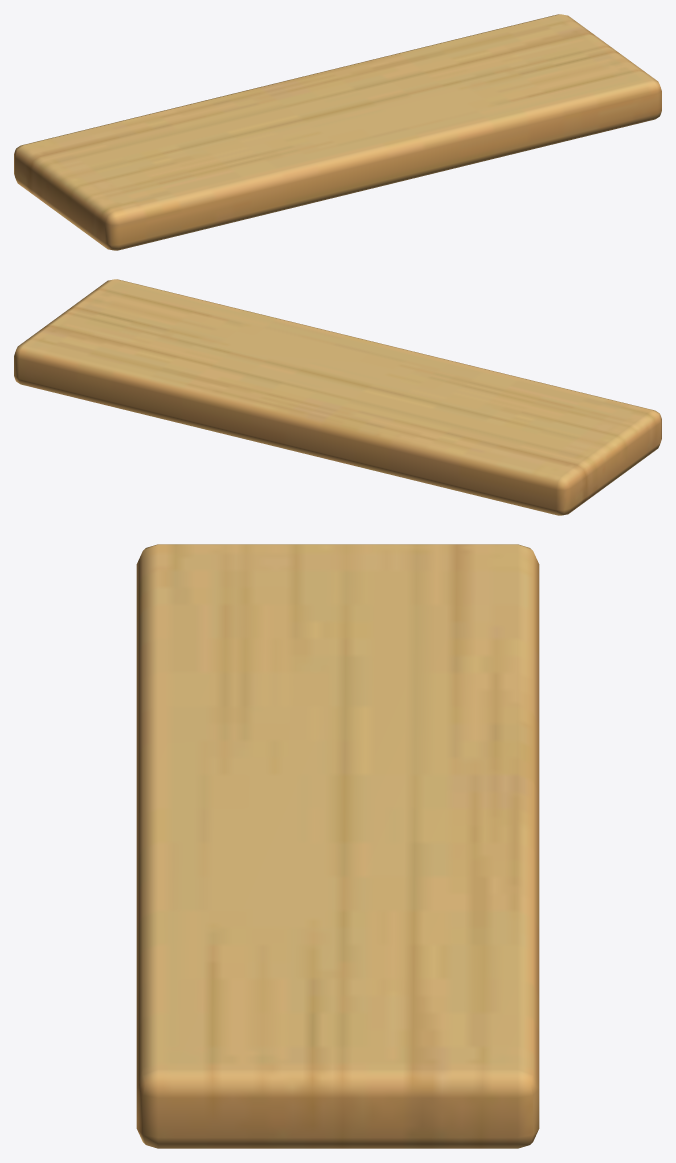
The picture shows the model from 3 angles, top to bottom: view 1: azimuth 30°, elevation 25°; view 2: azimuth 150°, elevation 25°; view 3: azimuth 270°, elevation 25°; orthographic projection. The views are drawn at different scales.
Parts seen in each view (by area): view 1: SM_MB; view 2: SM_MB; view 3: SM_MB.
Part boxes in pixels (x1,y1,x2,y2): SM_MB: (14,14,661,250); SM_MB: (14,279,661,515); SM_MB: (136,544,539,1148).
Bounding box in the file's own units: 1.34 × 0.0905 × 0.4193.
Materials: 1 (1 with a texture image).
